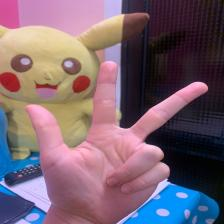three: (27, 61, 208, 207)
